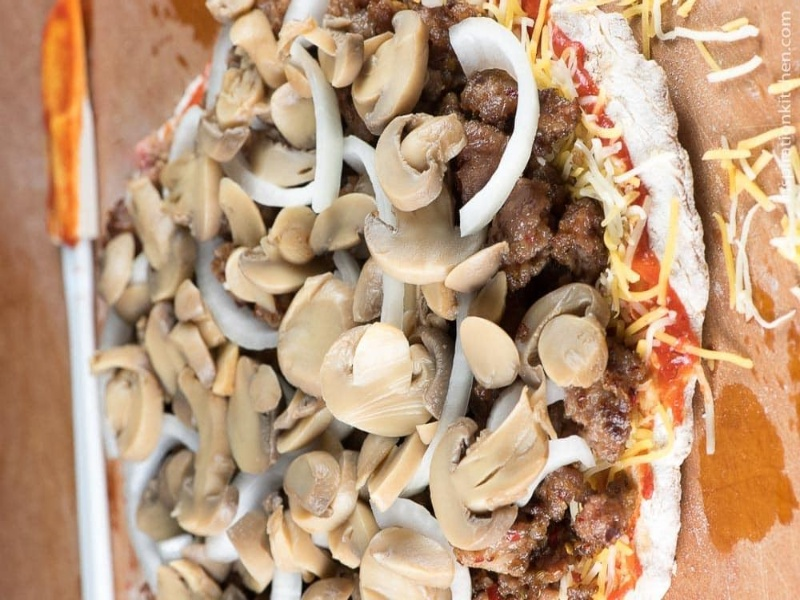champignon: (424, 395, 559, 553), (304, 316, 445, 435), (366, 105, 476, 216)
